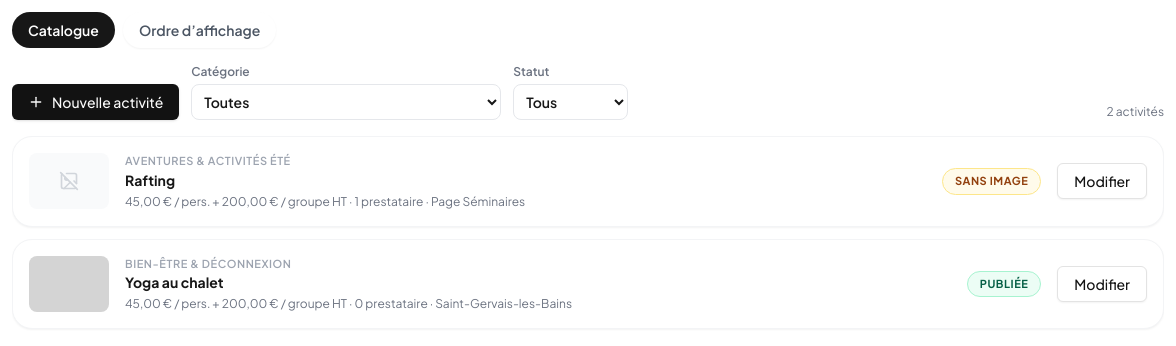
spec 097 UI admin — catalogue › filtre par statut et résume prix, prestataires et surfaces
Expected: the text "Sans image" is shown, [942,168,1041,194]
Expected: the list item with test id "seminar-activity-row" shows "Saint-Gervais-les-Bains", [435,296,572,311]
Step 1. Select "Publiée" in the dropdown labelled "Statut" → (571, 102), box [513,84,628,120]
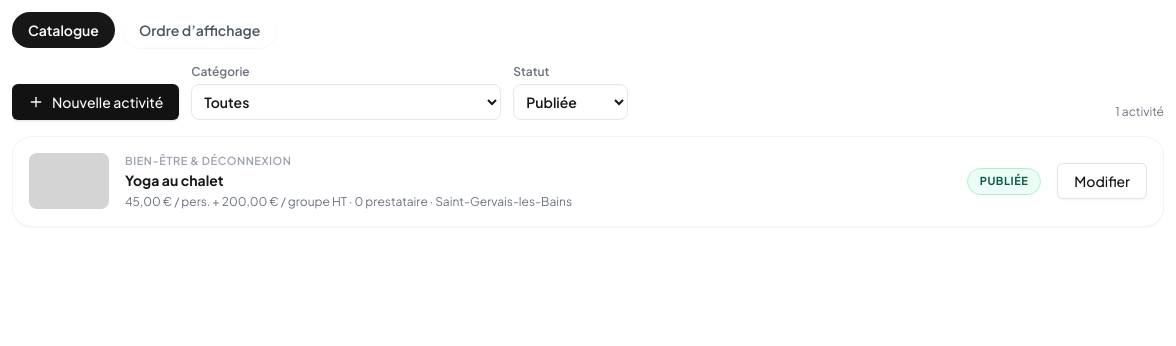
Expected: the number of list items with test id "seminar-activity-row" is 1, [12,136,1164,226]
